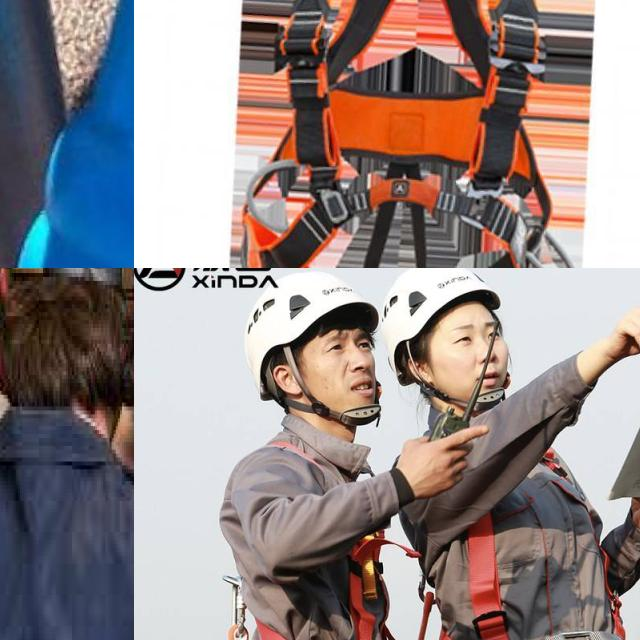Ear-protection: (0, 268, 134, 404)
Harness: (243, 0, 552, 268), (427, 386, 630, 640), (224, 573, 430, 640)
No_Ear-Protection: (273, 364, 304, 396)
No_Glasses: (322, 329, 376, 358), (448, 320, 480, 354)
